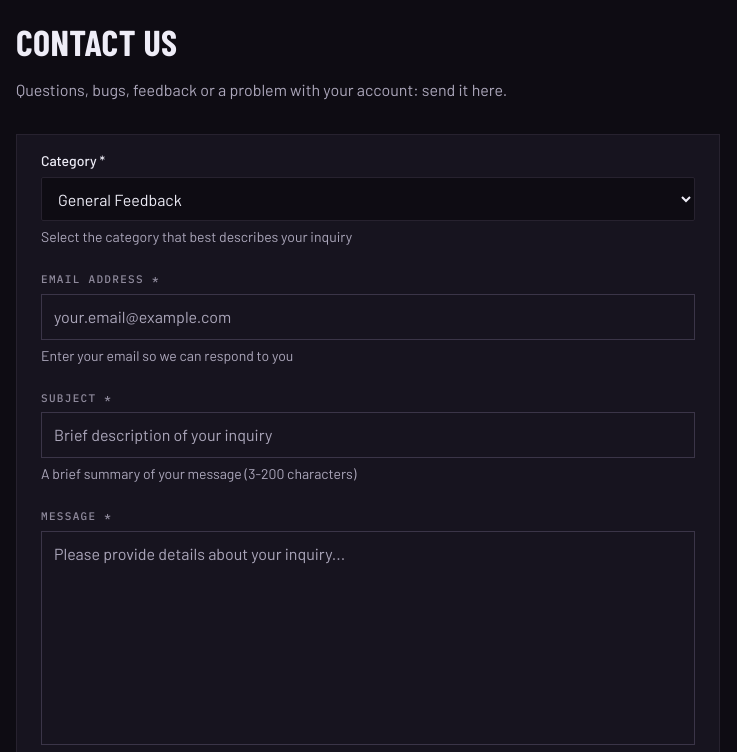
Test: ContactPage › clears form when clear button is clicked
Type "test@example.com" into the field labelled "Email Address *" at point(368, 316), box top-left (41, 294), bottom-right (695, 340)
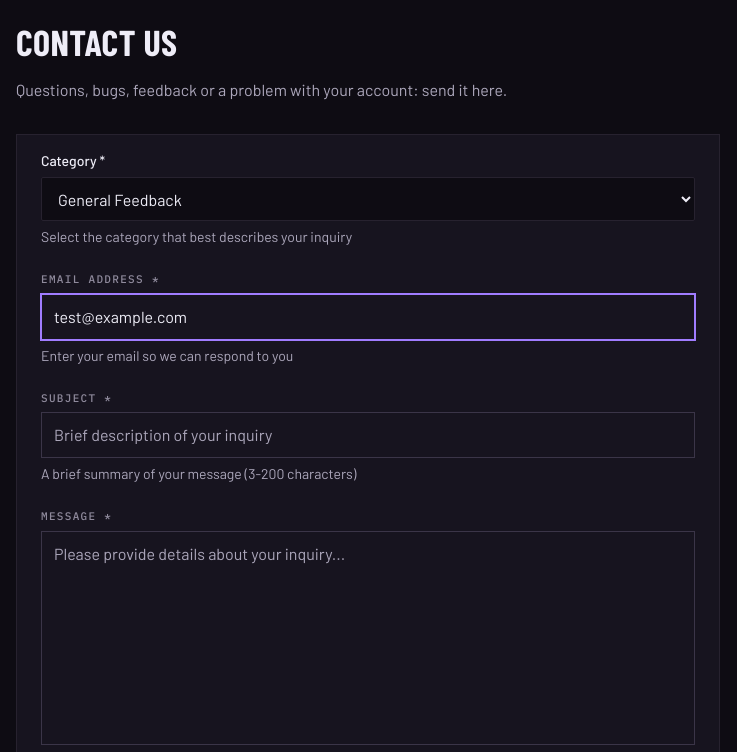
Type "Test Subject" into the field labelled "Subject *" at point(368, 435), box top-left (41, 412), bottom-right (695, 458)
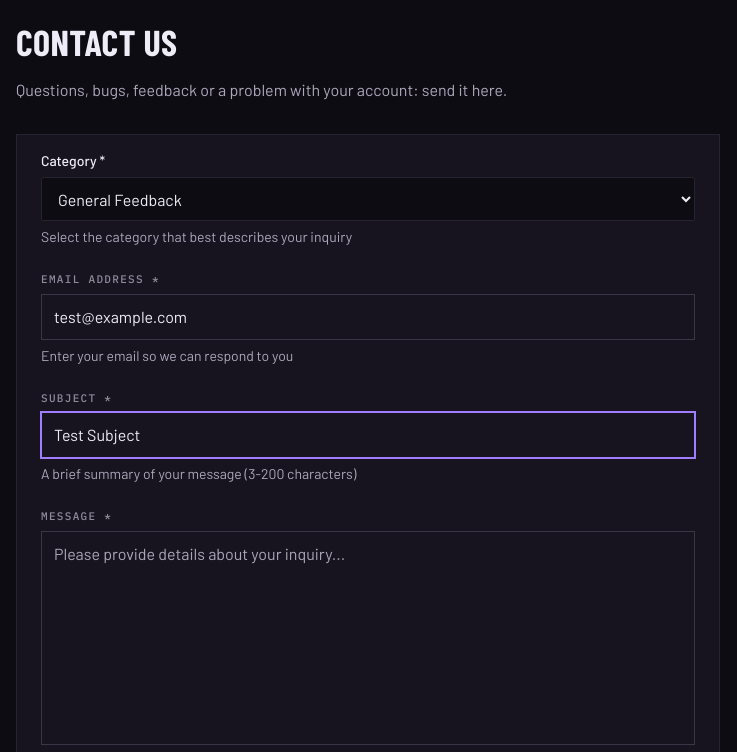
Type "Test message" into the text box labelled "Message *" at point(368, 638), box top-left (41, 530), bottom-right (695, 744)
(page scrolled)
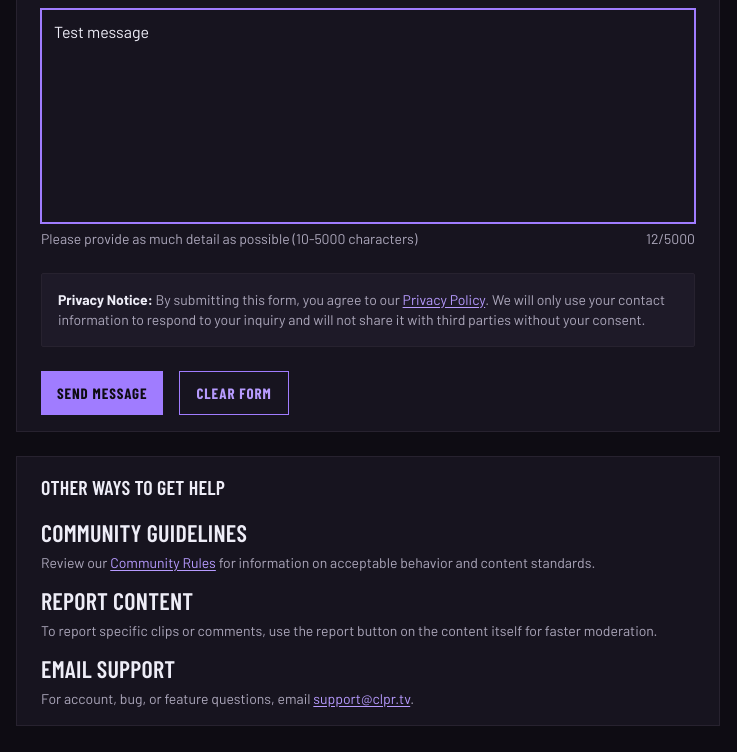
Click clear button
Click the button "Clear Form" at point(234, 393), box top-left (180, 370), bottom-right (289, 415)
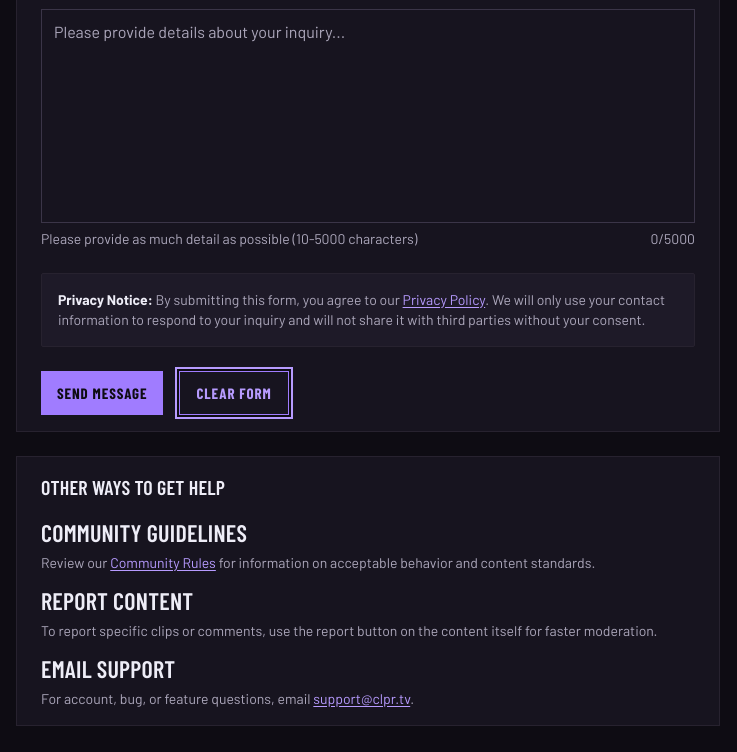
Expected: the text box labelled "Message *" is empty, top-left (41, 8), bottom-right (695, 222)
